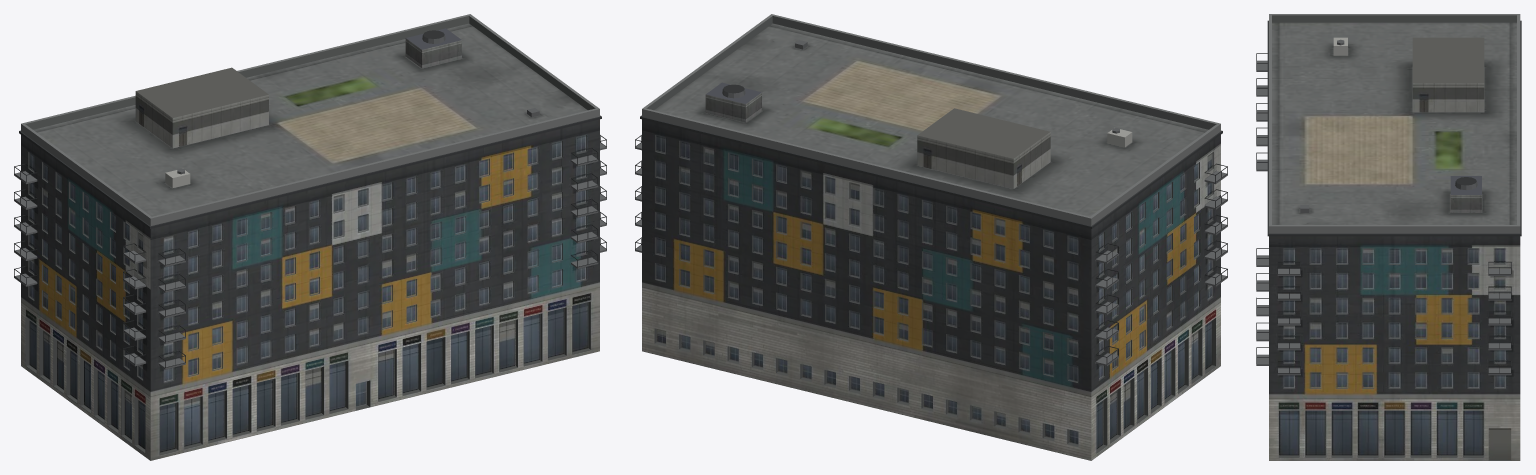
Rendered from seattle_podium_c.glb.
3 renders of one model, left to right at view 1: azimuth 30°, elevation 25°; view 2: azimuth 150°, elevation 25°; view 3: azimuth 270°, elevation 25°, orthographic. The views are drawn at different scales.
Visible parts, largest first — view 1: seattle_podium_c; view 2: seattle_podium_c; view 3: seattle_podium_c.
Part boxes in pixels (<box>): seattle_podium_c: <box>14,14,606,460</box>; seattle_podium_c: <box>635,14,1227,460</box>; seattle_podium_c: <box>1256,14,1521,460</box>.
Bounding box in the file's own units: 58.8 × 31.55 × 29.55.
1 material, 1 textured.
